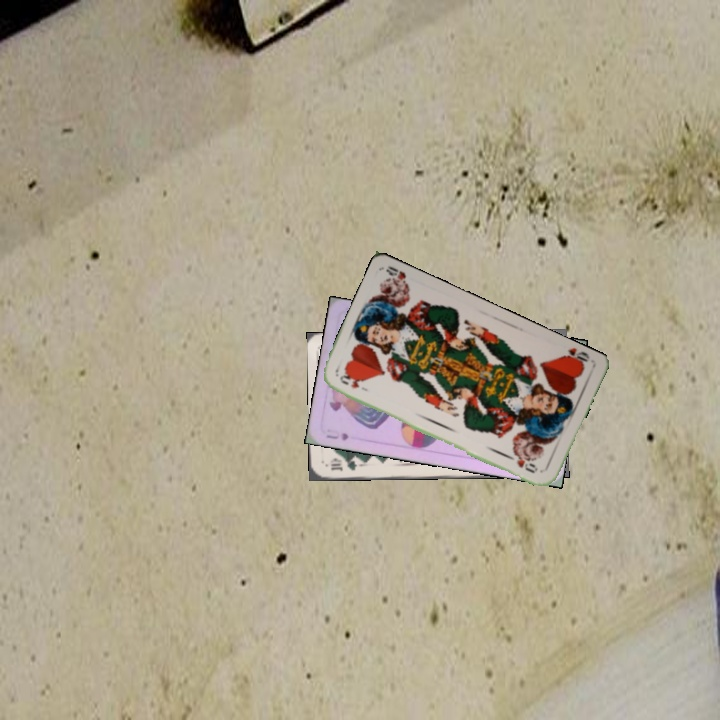G10: (327, 456, 359, 473)
HO: (554, 344, 592, 371), (336, 371, 370, 394)
SU: (322, 425, 351, 443)
